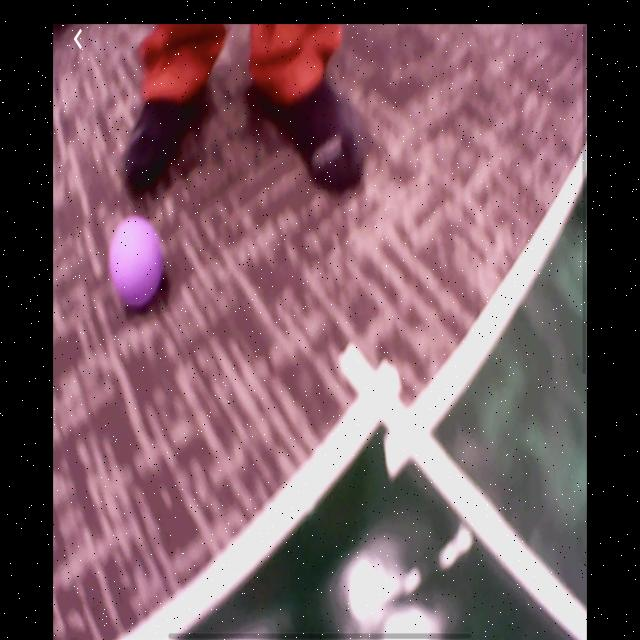ball: (109, 216, 166, 312)
